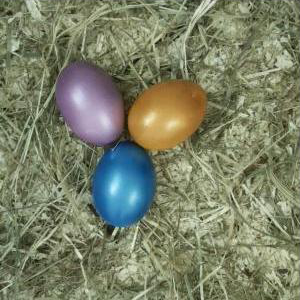egg: (56, 62, 126, 145), (127, 80, 207, 152), (92, 141, 155, 227)
